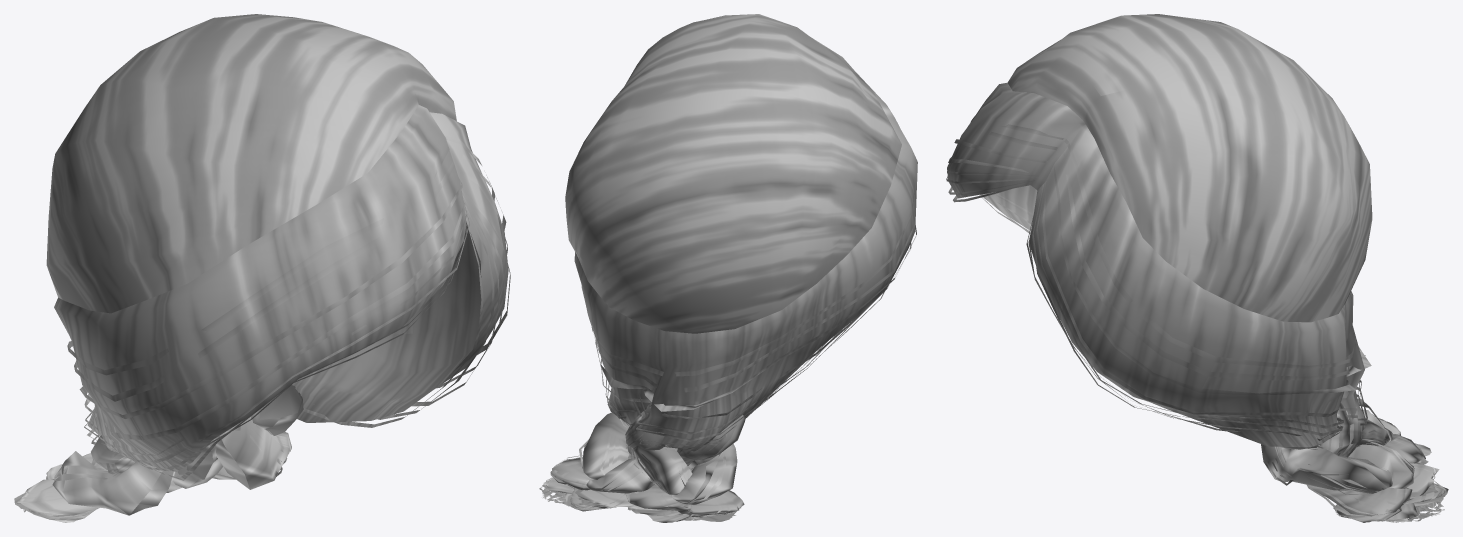
File: daz_hair_double_braid.glb
3 renders of one model, left to right at view 1: azimuth 30°, elevation 25°; view 2: azimuth 150°, elevation 25°; view 3: azimuth 270°, elevation 25°, orthographic. The views are drawn at different scales.
Parts seen in each view (by area): view 1: daz_hair_double_braid; view 2: daz_hair_double_braid; view 3: daz_hair_double_braid.
Boxes of the visible parts, x1,y1,x2,y2 form: daz_hair_double_braid: (14,14,510,522); daz_hair_double_braid: (539,14,917,522); daz_hair_double_braid: (946,14,1448,522).
Size of the model in its own units: 0.1823 by 0.2497 by 0.2534.
Materials: 1 (1 with a texture image).
